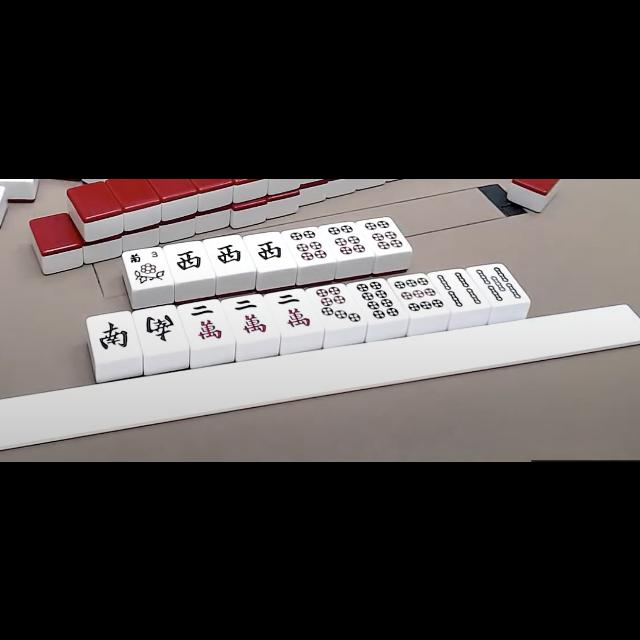b4: (438, 270, 482, 308)
b5: (473, 263, 527, 305)
c2: (185, 301, 228, 345), (230, 296, 272, 338), (274, 290, 314, 332)
d6: (364, 218, 404, 252), (328, 223, 367, 257), (291, 228, 329, 262)
d7: (312, 284, 362, 324)
d8: (354, 279, 401, 321)
d9: (395, 274, 441, 314)
f3: (126, 248, 166, 264)
ws: (90, 313, 136, 359), (138, 307, 182, 351)
ww: (250, 232, 288, 270), (170, 242, 208, 278), (210, 237, 248, 271)
